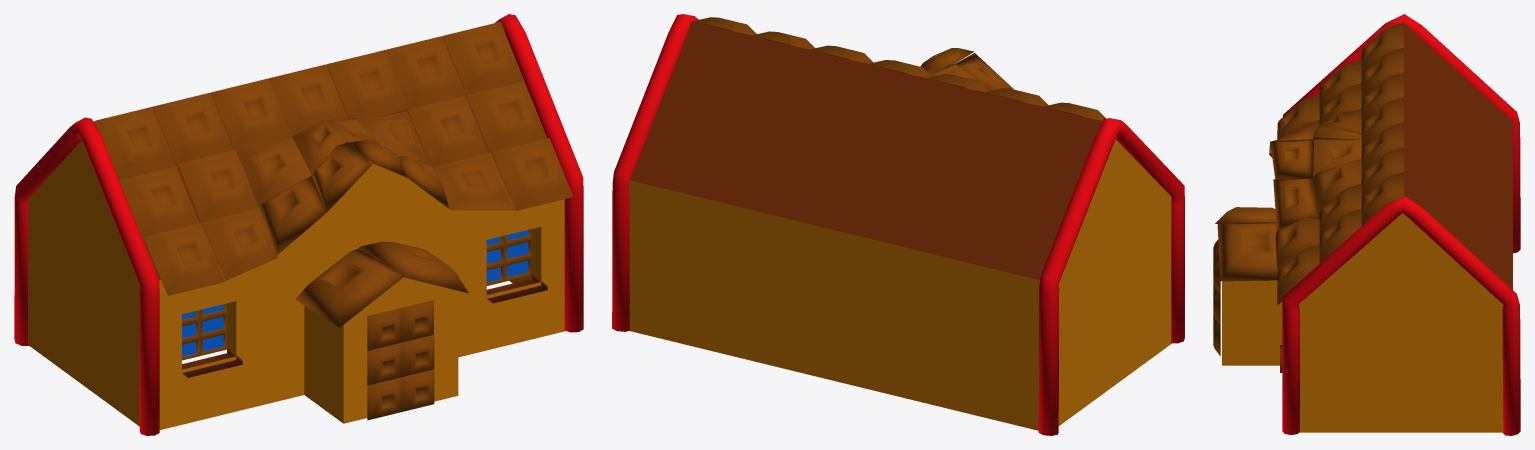
Rendered from chatkazPiernka.fbx.
The picture shows the model from 3 angles, left to right: view 1: azimuth 30°, elevation 25°; view 2: azimuth 150°, elevation 25°; view 3: azimuth 270°, elevation 25°; orthographic projection. The views are drawn at different scales.
Visible parts, largest first — view 1: Cube, kostka.016, Cube.001, kostka, kostka.001, kostka.019, kostka.013, kostka.004, kostka.002, kostka.006, kostka.008, kostka.011 (+21 smaller); view 2: Cube, kostka.021, kostka.023, kostka, kostka.002, kostka.004, kostka.006, kostka.001, kostka.005, kostka.003; view 3: Cube, kostka.015, kostka.024, kostka.023, kostka.014, kostka.010, kostka.020, kostka.013, kostka, kostka.012, kostka.011, kostka.001 (+11 smaller).
Boxes of the visible parts, x1,y1,x2,y2 form: Cube: [14, 14, 583, 435]; kostka.016: [295, 249, 404, 327]; Cube.001: [182, 229, 531, 360]; kostka: [443, 22, 523, 94]; kostka.001: [384, 36, 465, 109]; kostka.019: [144, 223, 225, 295]; kostka.013: [492, 138, 573, 210]; kostka.004: [211, 78, 291, 151]; kostka.002: [327, 50, 407, 121]; kostka.006: [95, 107, 175, 179]; kostka.008: [178, 149, 258, 222]; kostka.011: [408, 95, 488, 166]; Cube: [612, 14, 1184, 435]; kostka.021: [955, 53, 1013, 90]; kostka.023: [920, 48, 974, 70]; kostka: [693, 17, 756, 35]; kostka.002: [810, 45, 873, 64]; kostka.004: [927, 74, 989, 92]; kostka.006: [1043, 102, 1105, 121]; kostka.001: [752, 31, 814, 49]; kostka.005: [985, 88, 1048, 106]; kostka.003: [868, 60, 931, 78]; Cube: [1222, 14, 1520, 435]; kostka.015: [1217, 222, 1277, 281]; kostka.024: [1273, 178, 1319, 230]; kostka.023: [1270, 139, 1313, 179]; kostka.014: [1275, 217, 1319, 274]; kostka.010: [1313, 159, 1361, 211]; kostka.020: [1313, 139, 1361, 177]; kostka.013: [1277, 244, 1319, 305]; kostka: [1361, 172, 1403, 225]; kostka.012: [1319, 209, 1361, 263]; kostka.011: [1319, 184, 1361, 236]; kostka.001: [1361, 147, 1403, 199].
Bounding box in the file's own units: 1234 × 720 × 845.
